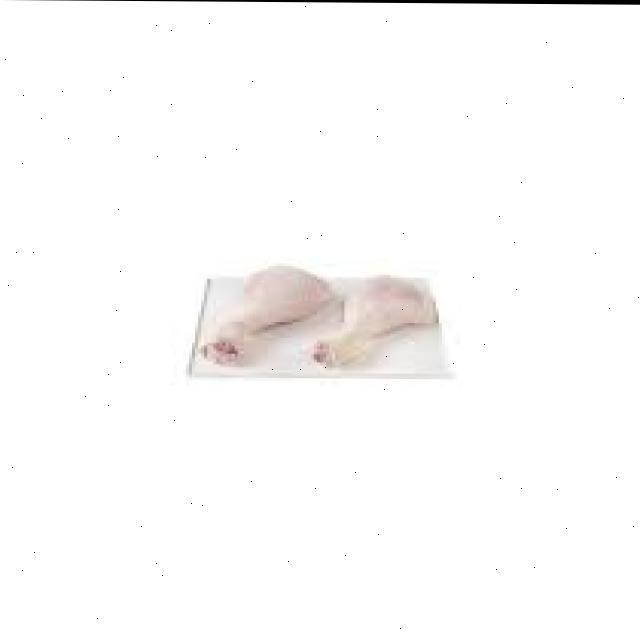leg: (312, 268, 447, 374), (212, 254, 322, 366)
